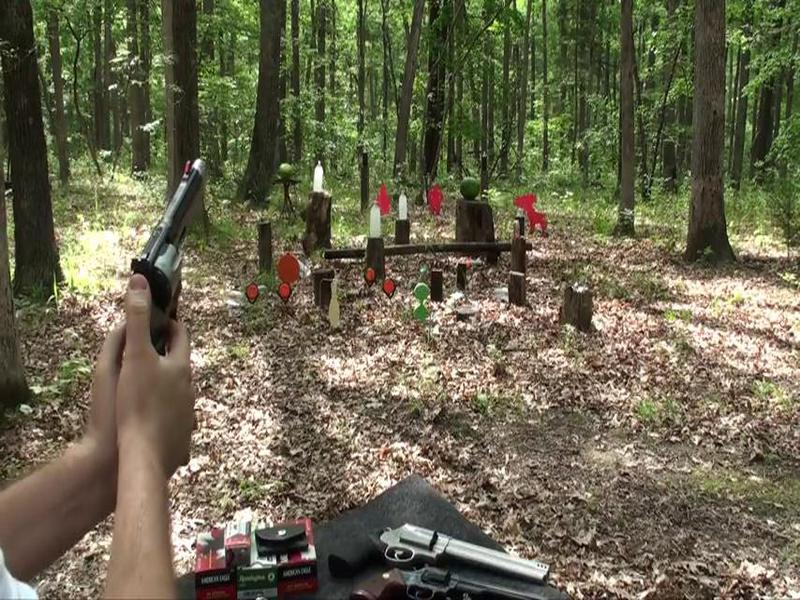Revolver: (122, 144, 216, 385)
